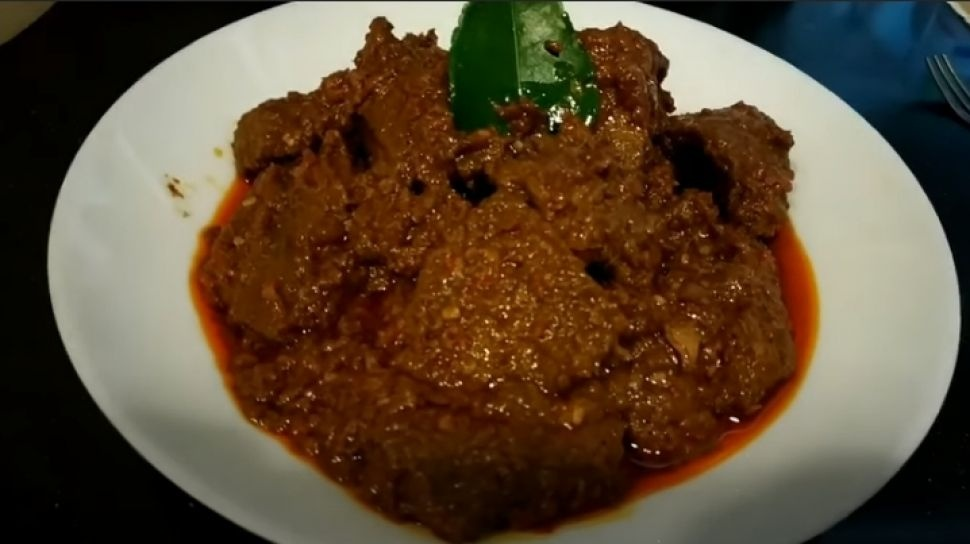rendang: (229, 126, 793, 455)
